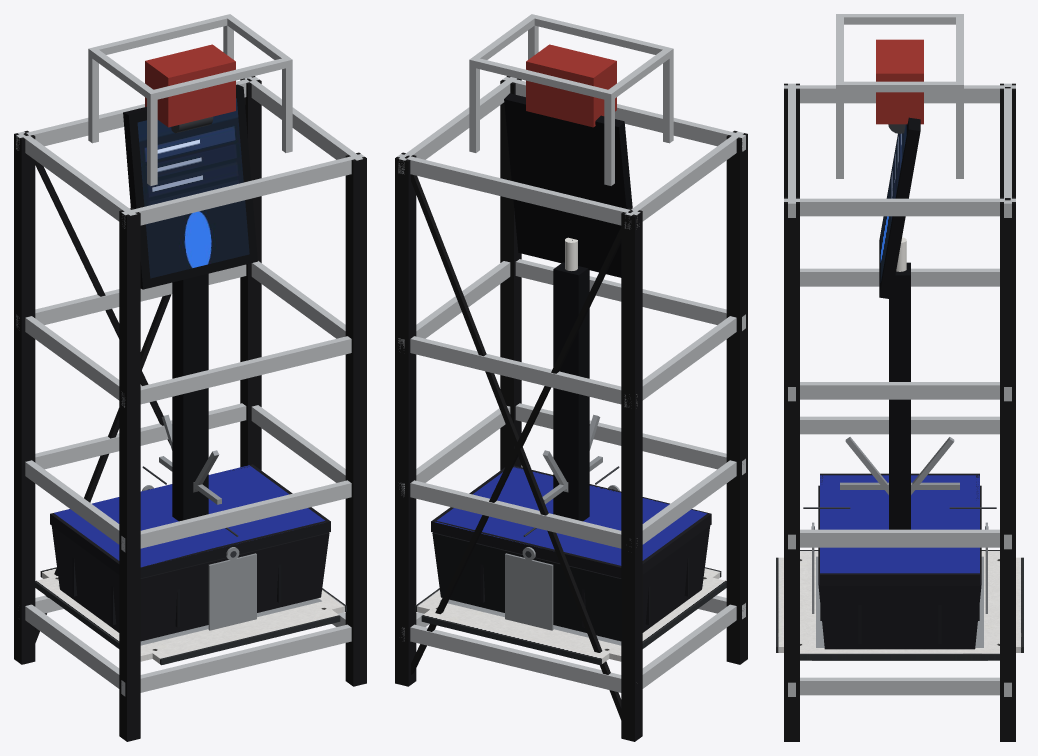
Rendered from asrs-system.glb.
3 views of the same model, side by side, from view 1: azimuth 30°, elevation 25°; view 2: azimuth 150°, elevation 25°; view 3: azimuth 270°, elevation 25° (orthographic). The views are drawn at different scales.
Parts seen in each view (by area): view 1: Frame, Bin_Black, Kiosk, Screen, Bin_Blue, Tile, Carriage; view 2: Frame, Kiosk, Bin_Black, Bin_Blue, Tile, Carriage; view 3: Frame, Bin_Black, Bin_Blue, Kiosk, Tile, Carriage, Screen.
Boxes of the visible parts, x1,y1,x2,y2 form: Frame: [14, 14, 366, 741]; Bin_Black: [50, 464, 330, 641]; Kiosk: [123, 84, 257, 521]; Screen: [137, 98, 249, 278]; Bin_Blue: [54, 465, 324, 567]; Tile: [35, 567, 346, 665]; Carriage: [58, 414, 321, 645]; Frame: [395, 14, 747, 741]; Kiosk: [504, 93, 632, 521]; Bin_Black: [431, 465, 711, 641]; Bin_Blue: [435, 466, 707, 565]; Tile: [415, 567, 726, 665]; Carriage: [440, 414, 703, 645]; Frame: [784, 14, 1015, 741]; Bin_Black: [818, 473, 981, 649]; Bin_Blue: [820, 475, 979, 573]; Kiosk: [879, 117, 920, 529]; Tile: [776, 550, 1023, 660]; Carriage: [803, 437, 996, 660]; Screen: [880, 124, 906, 282].
Size of what is drawn, in the model's own units: 0.71 by 1.75 by 0.62.
Materials: 11 (2 with a texture image).
